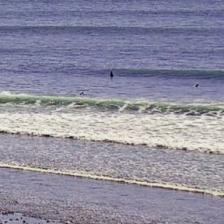surfer: (78, 92, 86, 96), (110, 72, 113, 78), (195, 84, 198, 87)
